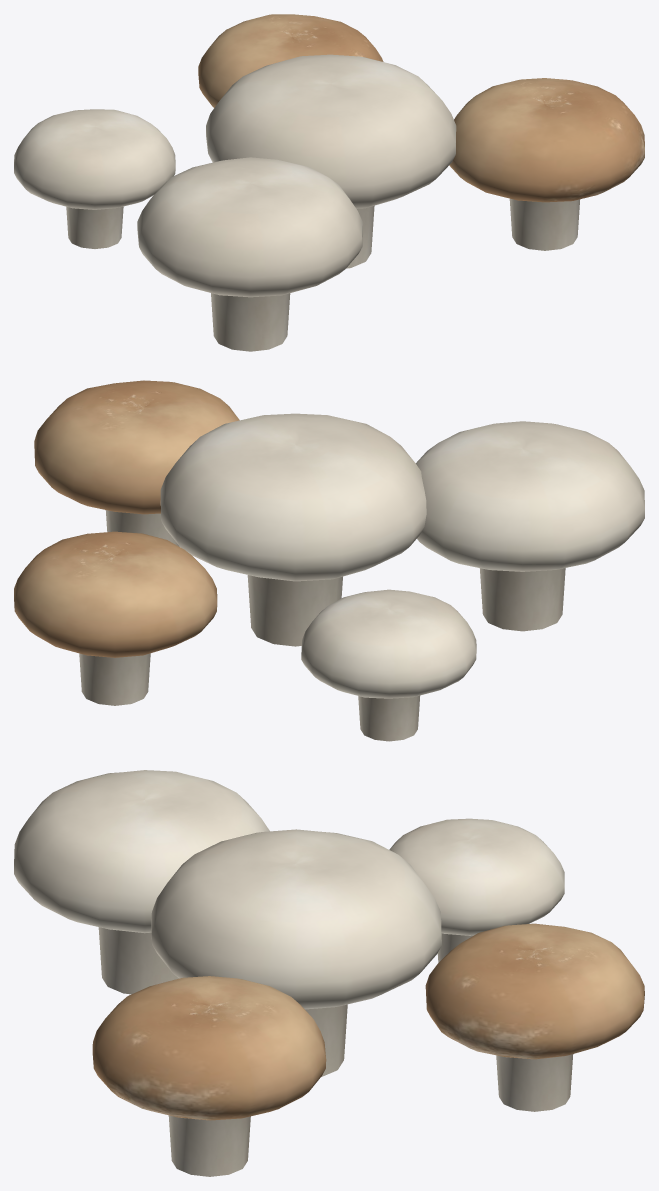
Rendered from veg_mushrooms_brown_white.glb.
The picture shows the model from 3 angles, top to bottom: view 1: azimuth 30°, elevation 25°; view 2: azimuth 150°, elevation 25°; view 3: azimuth 270°, elevation 25°; orthographic projection. The views are drawn at different scales.
Parts seen in each view (by area): view 1: veg_mushrooms_brown_white; view 2: veg_mushrooms_brown_white; view 3: veg_mushrooms_brown_white.
Boxes of the visible parts, box(x1,y1,x2,y2) form: veg_mushrooms_brown_white: box(14, 14, 644, 351); veg_mushrooms_brown_white: box(14, 380, 644, 741); veg_mushrooms_brown_white: box(14, 770, 644, 1176).
Bounding box in the file's own units: 0.1577 × 0.0506 × 0.1457.
3 materials, 3 textured.
